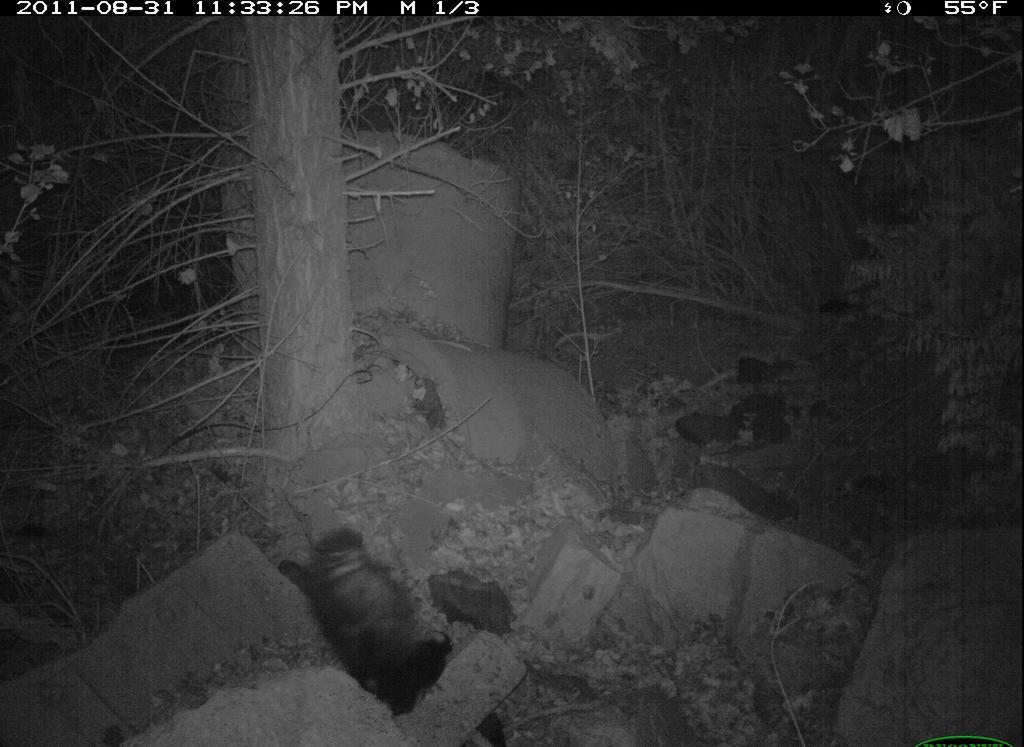skunk: (276, 524, 516, 744)
